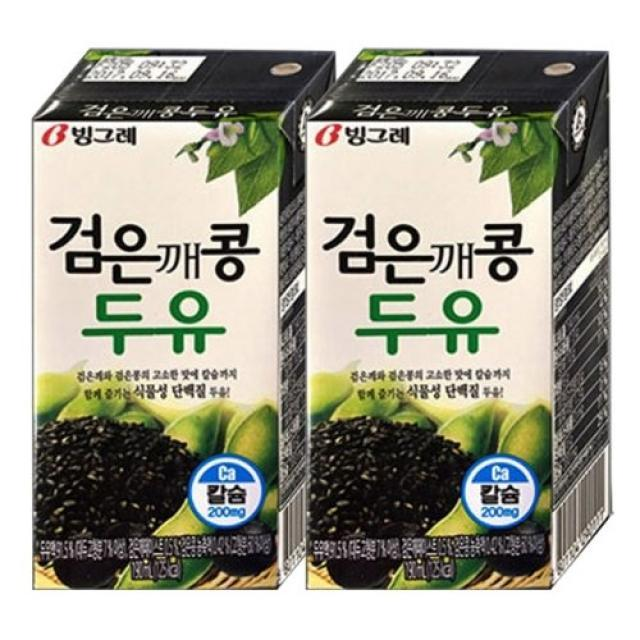Tetra: (16, 33, 340, 608), (298, 39, 618, 597)
